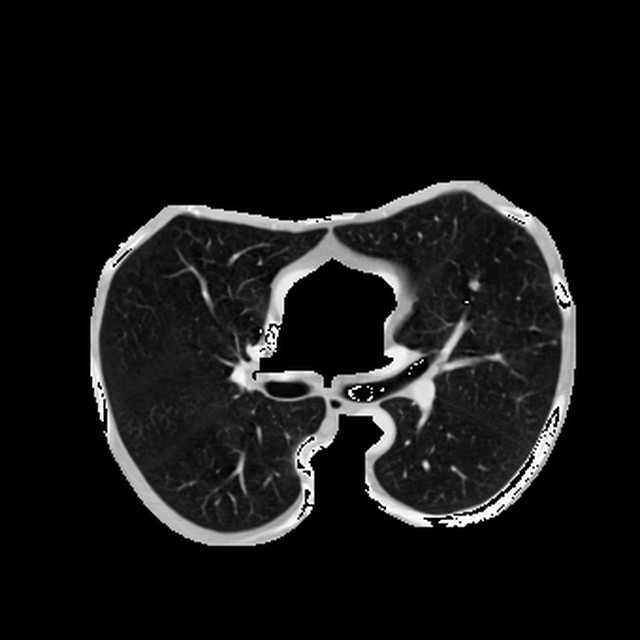PN: (467, 277, 482, 292)
